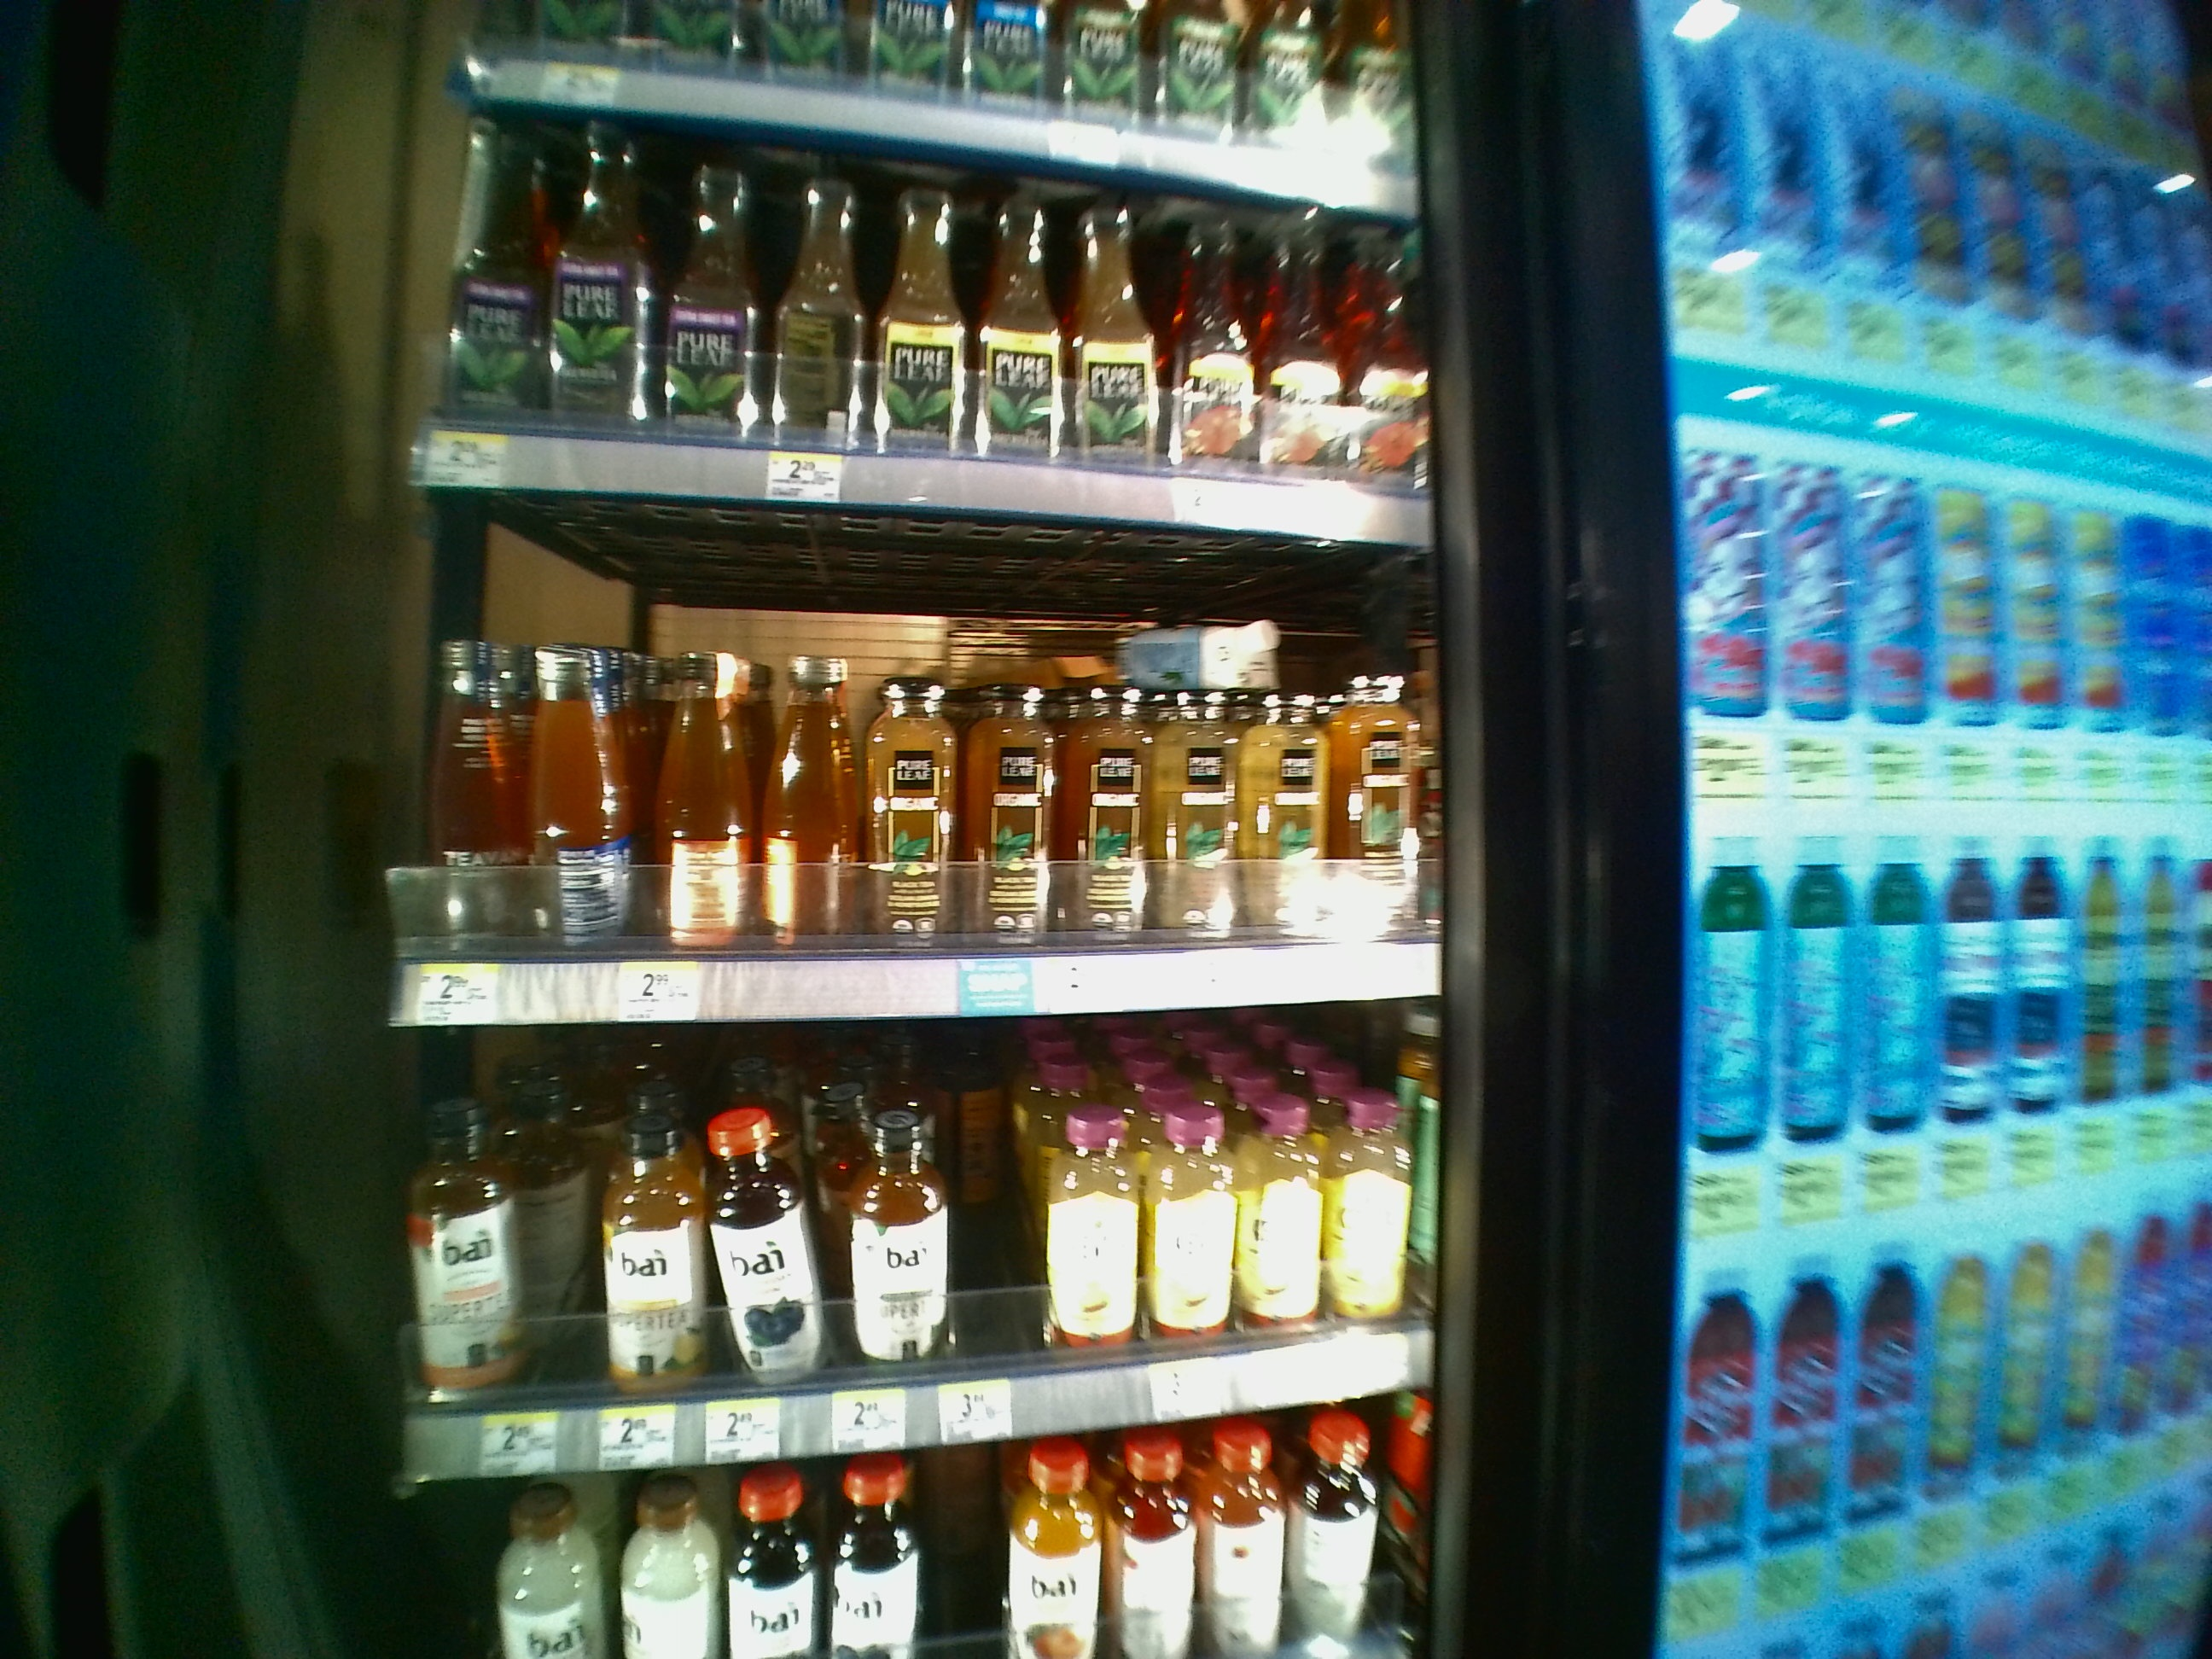shelf: (383, 490, 1460, 1030), (383, 1042, 1468, 1471)
